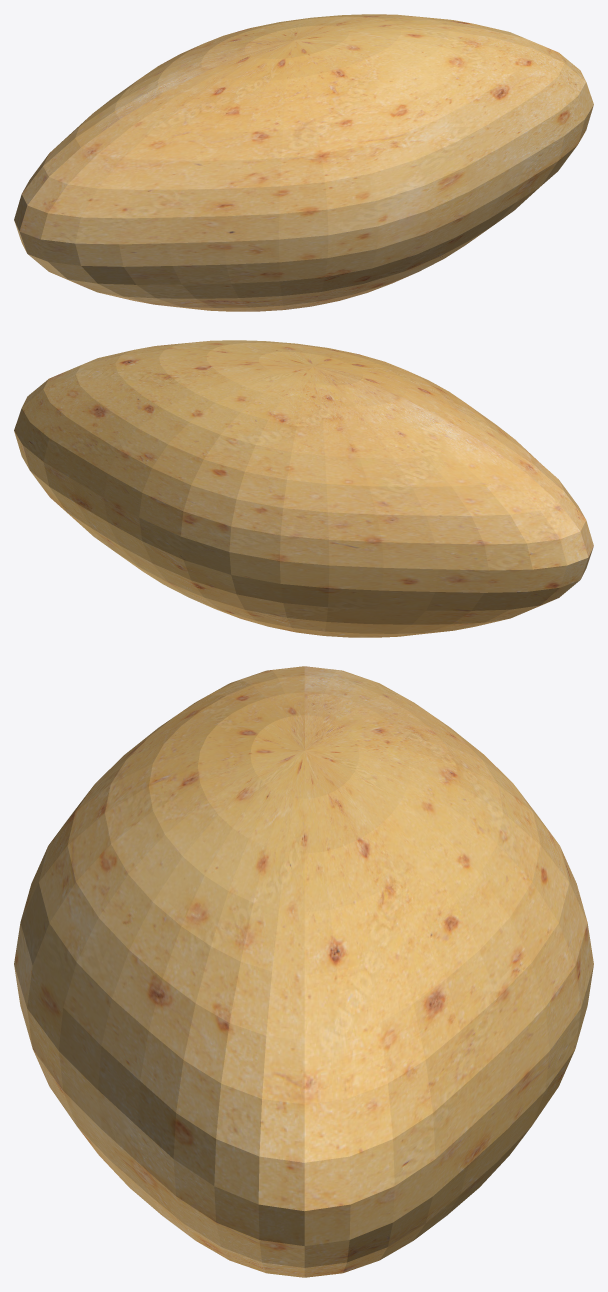
Rendered from PotatoTest.fbx.
3 views of the same model, one above another, from view 1: azimuth 30°, elevation 25°; view 2: azimuth 150°, elevation 25°; view 3: azimuth 270°, elevation 25° (orthographic). The views are drawn at different scales.
Parts seen in each view (by area): view 1: Sphere; view 2: Sphere; view 3: Sphere.
Part boxes in pixels (x1=…): Sphere: x1=14, y1=14, x2=593, y2=311; Sphere: x1=14, y1=340, x2=593, y2=637; Sphere: x1=14, y1=666, x2=593, y2=1277.
Bounding box in the file's own units: 480 × 200 × 246.
Materials: 1 (1 with a texture image).
